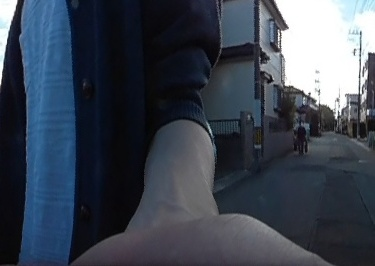person: (294, 117, 307, 154)
